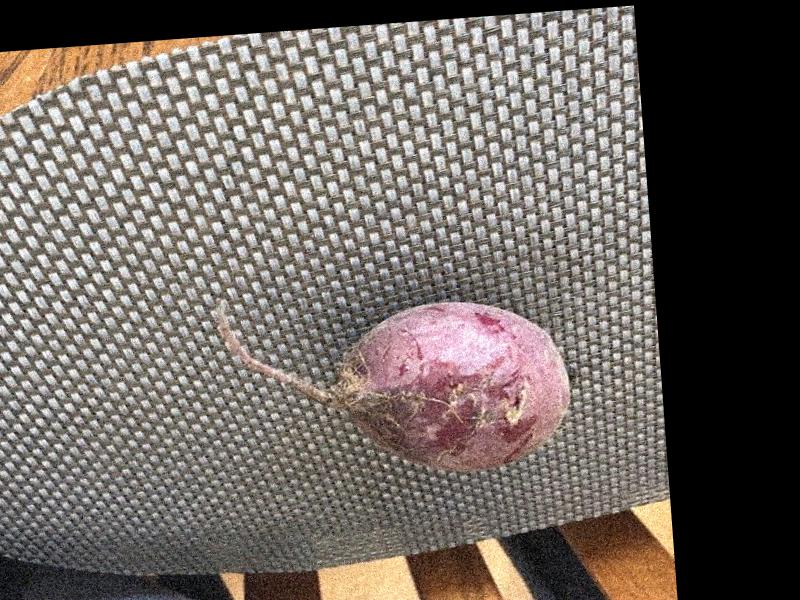Beet: (213, 274, 571, 490)
